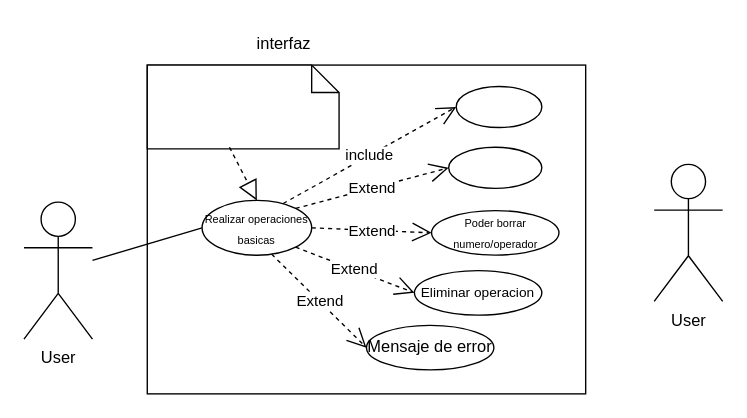
Image size: 747x418. Some labels were removed from this diagram. The centre of each missing label's shape, as x and y in pixels:
Copiar resultado: the point at 494,167
mostrar resultado: the point at 498,106
Restricción: [solo numeros 1 y 0] Restricción: [maximo numero de 30 de longitud]: the point at 242,106
